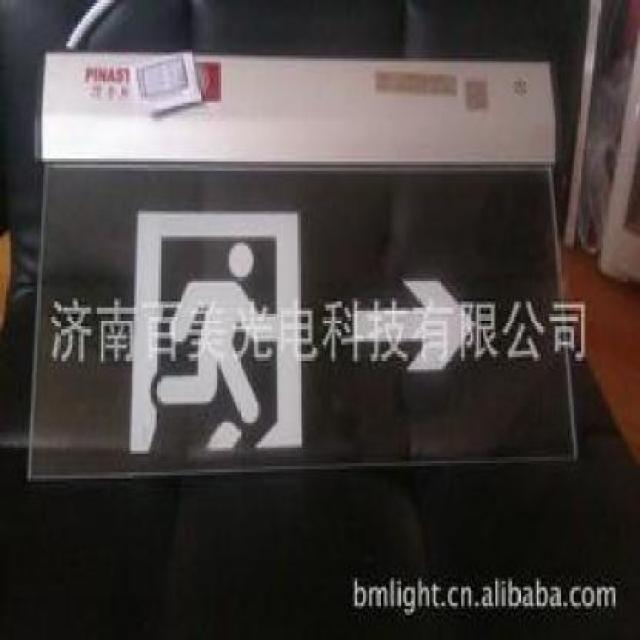exit_sign: (40, 171, 563, 449)
